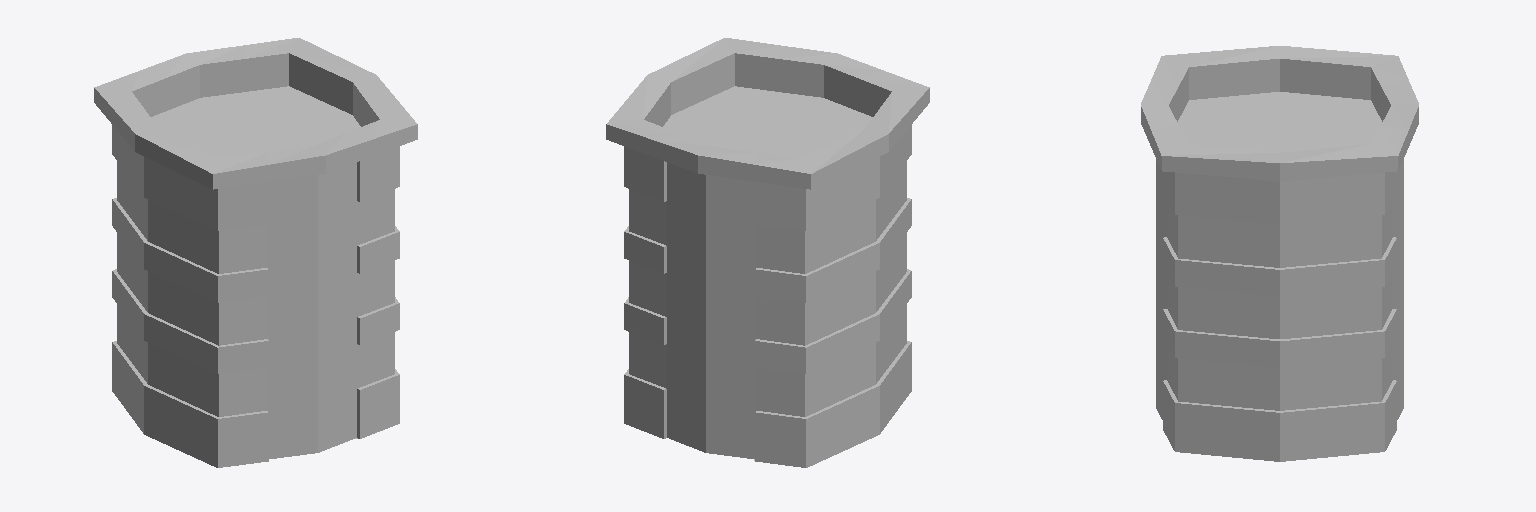
The model's file is WoodlandHesco.obj.
The picture shows the model from 3 angles: view 1: azimuth 30°, elevation 25°; view 2: azimuth 150°, elevation 25°; view 3: azimuth 270°, elevation 25°; orthographic projection.
Parts seen in each view (by area): view 1: WoodlandHesco_Cube.008; view 2: WoodlandHesco_Cube.008; view 3: WoodlandHesco_Cube.008.
Boxes of the visible parts, x1,y1,x2,y2 form: WoodlandHesco_Cube.008: [94, 38, 417, 467]; WoodlandHesco_Cube.008: [606, 38, 929, 467]; WoodlandHesco_Cube.008: [1141, 46, 1418, 461].
Bounding box in the file's own units: 2.65 × 3.18 × 2.65.